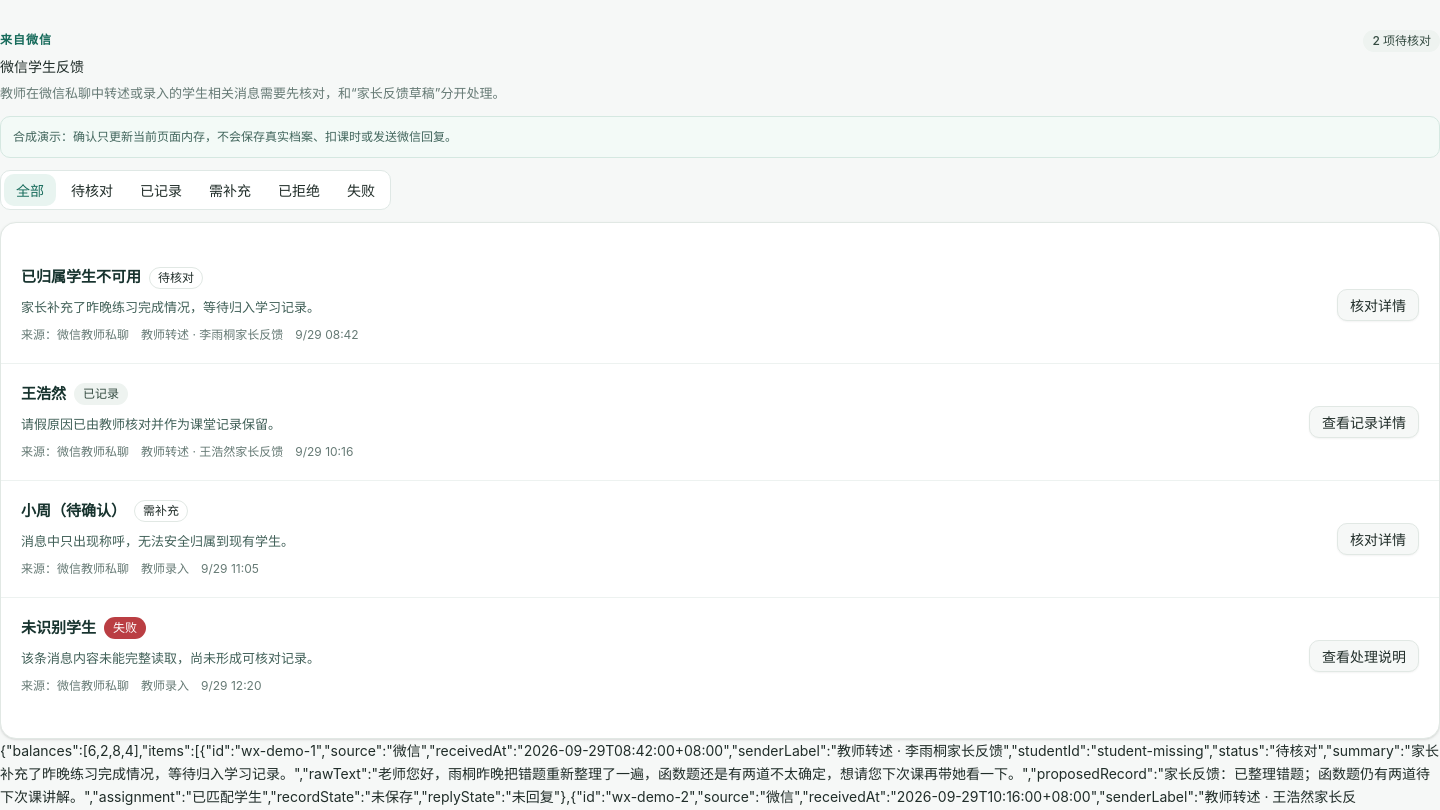
Test: 微信学生反馈收件区 › 失效学生标识不能通过确认门槛
This screenshot has width=1440, height=810.
Click the 1st button "核对详情" at (1378, 305), box top-left (1337, 289), bottom-right (1419, 321)
(page scrolled)
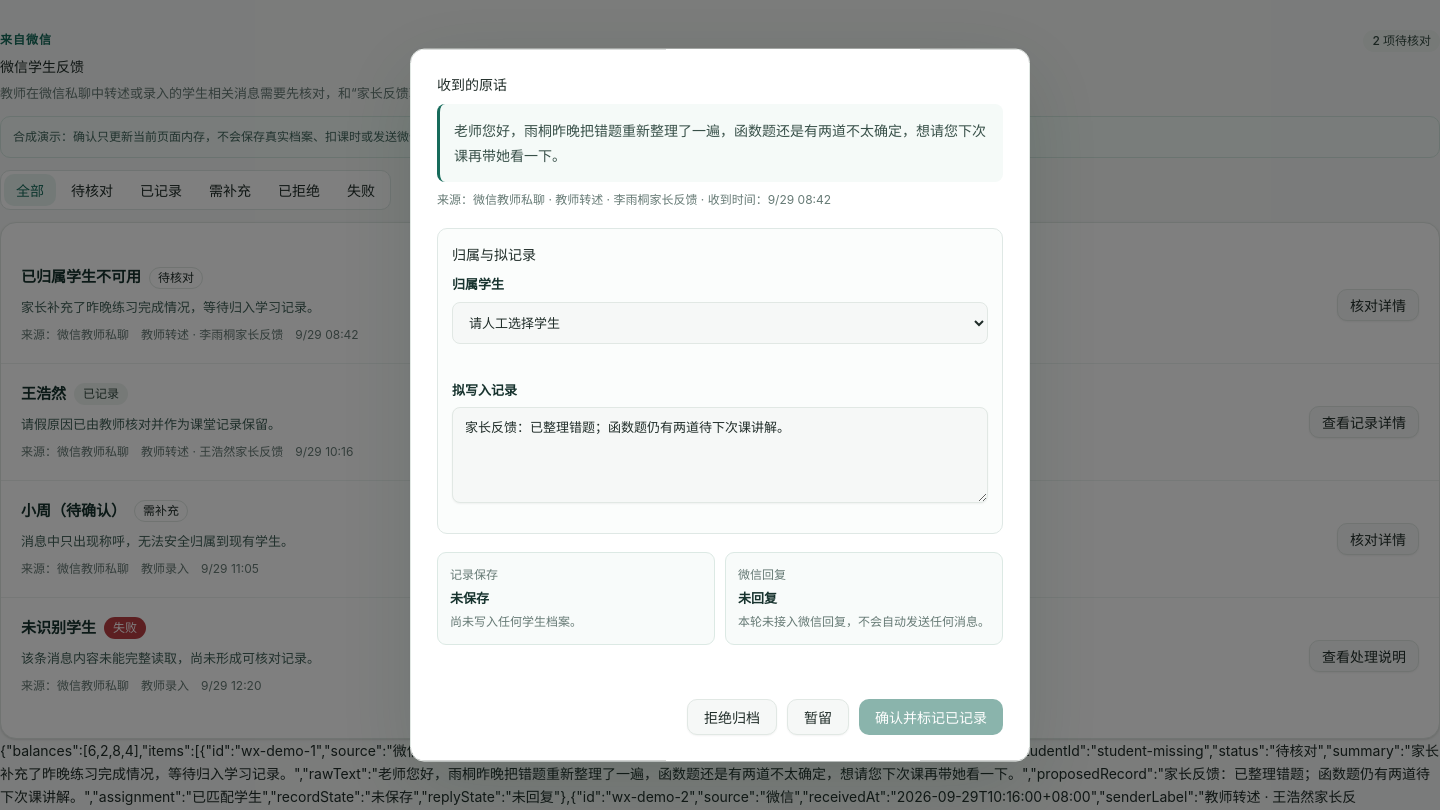
Expected: the button "确认并标记已记录" is disabled, top-left (859, 699), bottom-right (1003, 735)
